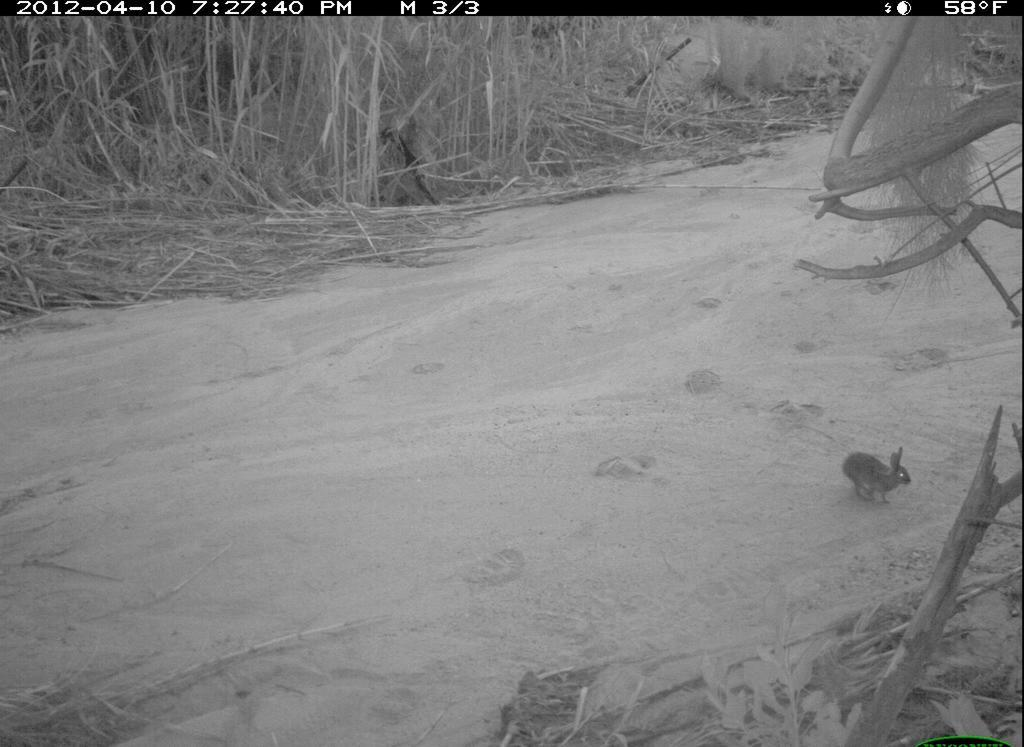rabbit: (844, 437, 918, 507)
